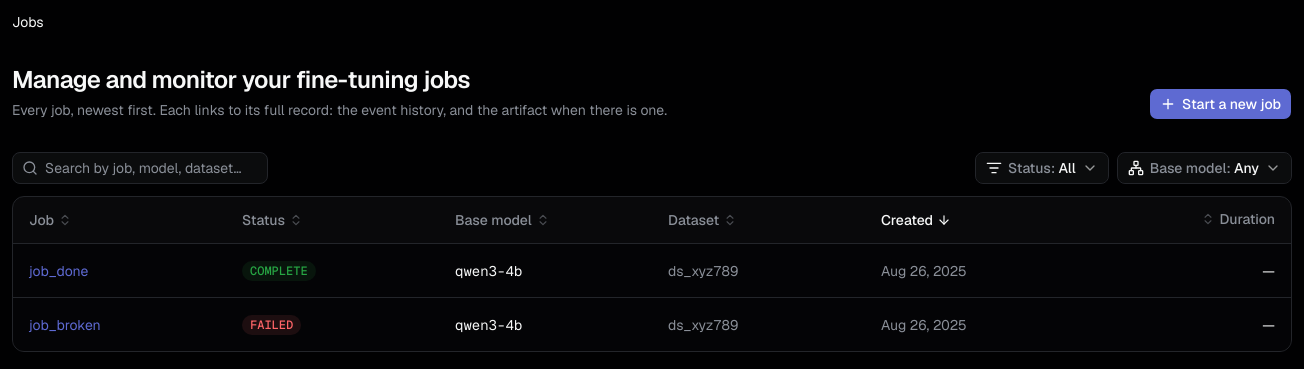
Scenario: JobsView › narrows the list to one status through the filter
What coordinates should you click on to do the following:
click the button with aria-label "Filter by status"
I would click on:
 (1042, 168)
Its box is [975,152,1109,184].
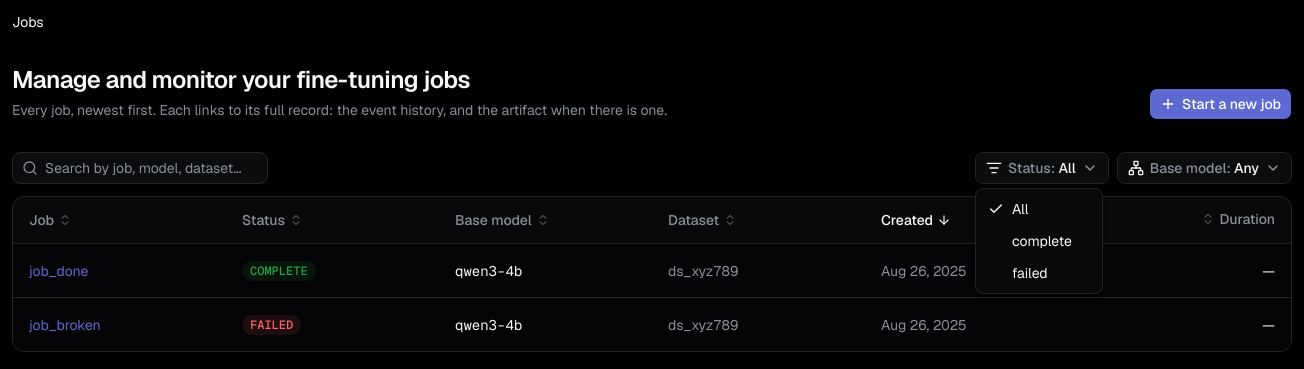
What coordinates should you click on to do the following:
click the menu item "failed"
I would click on:
 (1030, 273)
Its box is [1012,264,1048,282].
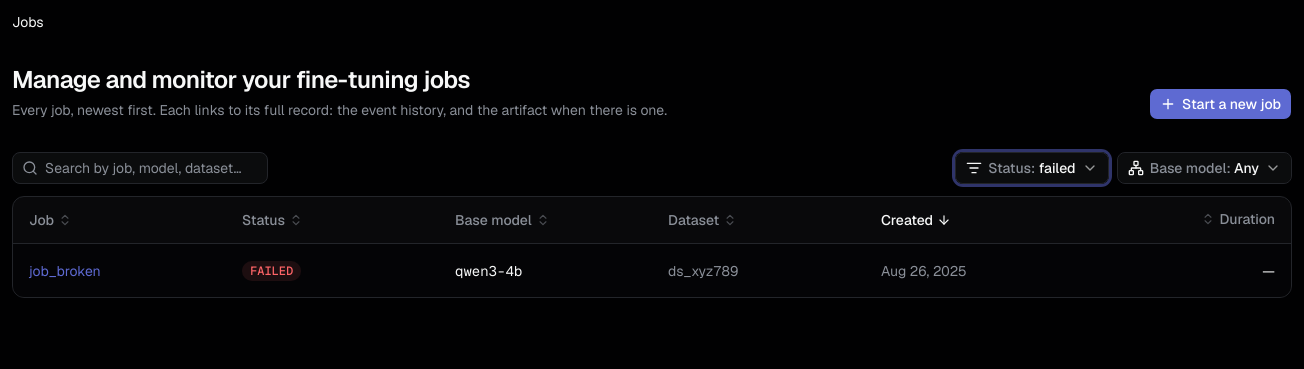
Expected: the link "job_broken" is shown, [29,262,101,280]
Expected: the link "job_done" is gone
